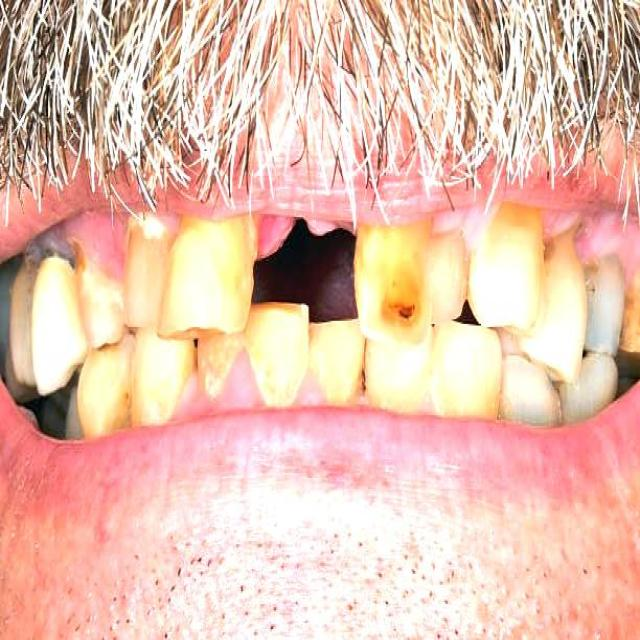caries: (368, 266, 429, 352), (64, 233, 92, 292)
